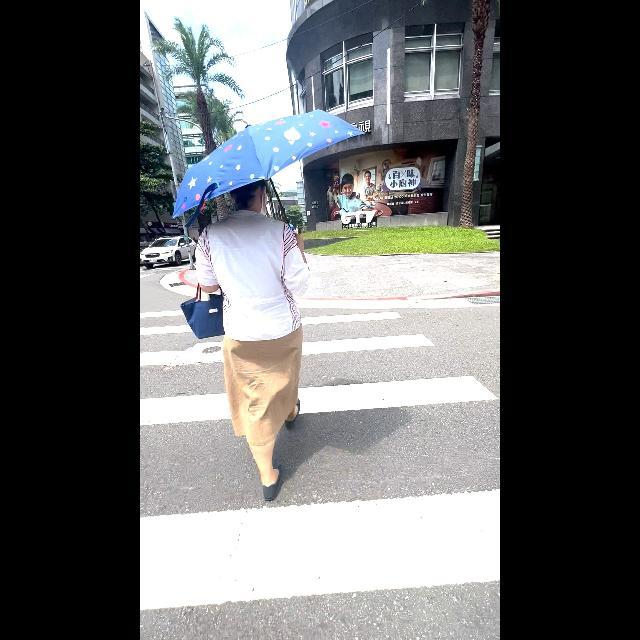sidewalk: (141, 308, 499, 609)
